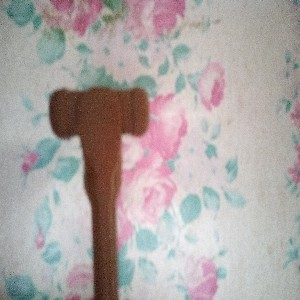palu: (48, 84, 150, 300)
